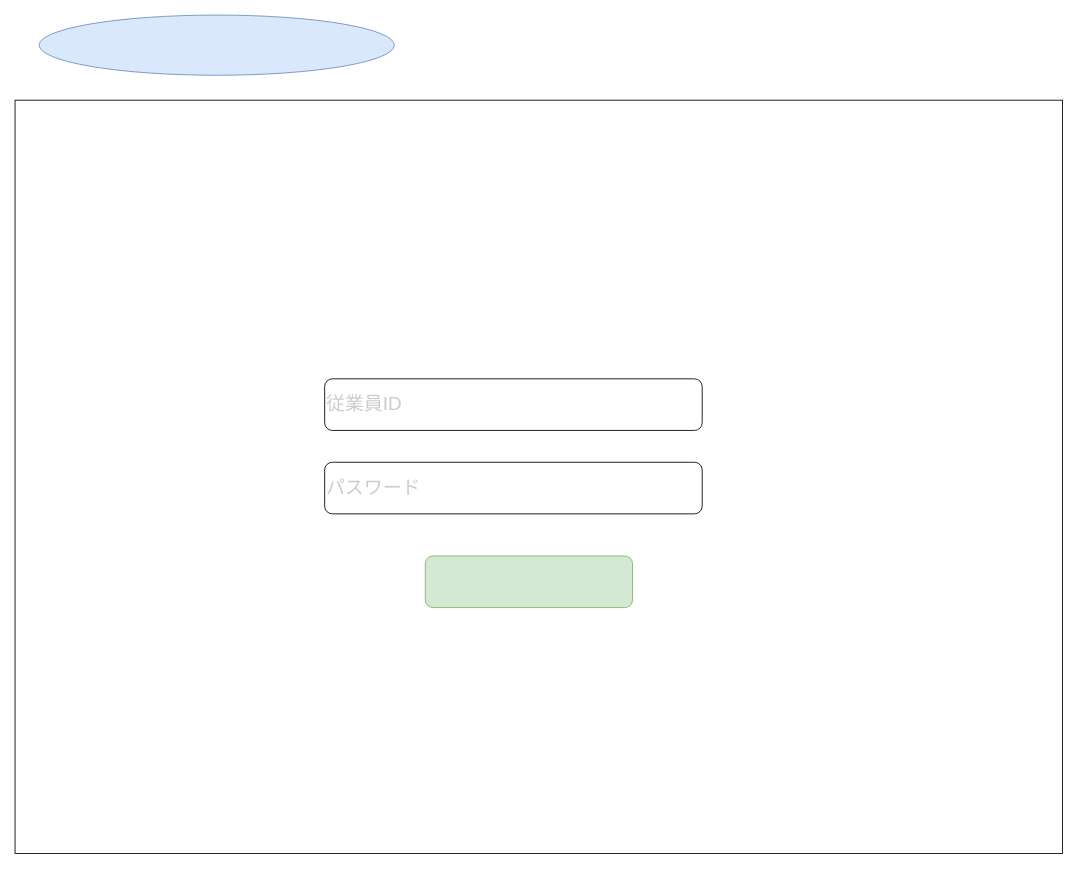
The diagram is 1078 pixels wide and 869 high, and some of its shapes have lost their labels. The shapes that lost their labels are listed below. From the top down, each one's centre as x and y in pixels, then its label:
At pixel 216 44: "ホーム画面".
At pixel 528 581: "ログイン".
